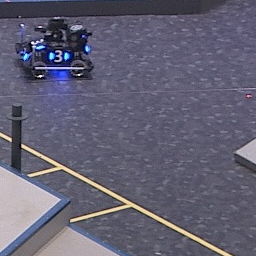Blue: (48, 50, 70, 63), (30, 38, 47, 50)
Robot: (15, 17, 95, 79)
